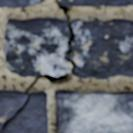brick: (55, 90, 132, 132), (57, 0, 132, 5), (0, 0, 43, 7)
broken_brick: (2, 17, 69, 77), (71, 18, 132, 80), (0, 91, 48, 132), (0, 89, 25, 126)
crack: (0, 2, 77, 130)
